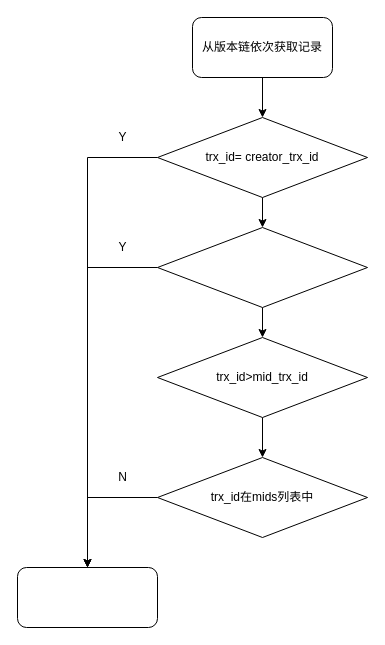
This 385x645 diagram has some shape labels left out. The shapes that lost their labels are listed below. From the top down, each one's centre as x and y in pixels, then its label:
At point 262,267: "trx_id< min_trx_id".
At point 87,597: "该版本数据可见".
